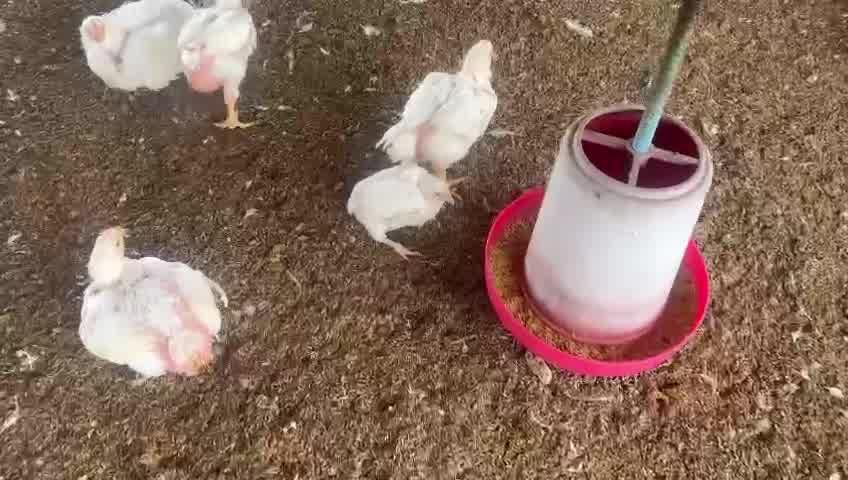AbNormal: (82, 225, 223, 380), (346, 165, 455, 259), (82, 3, 187, 87)
Normal: (383, 39, 498, 168), (182, 0, 260, 133)
